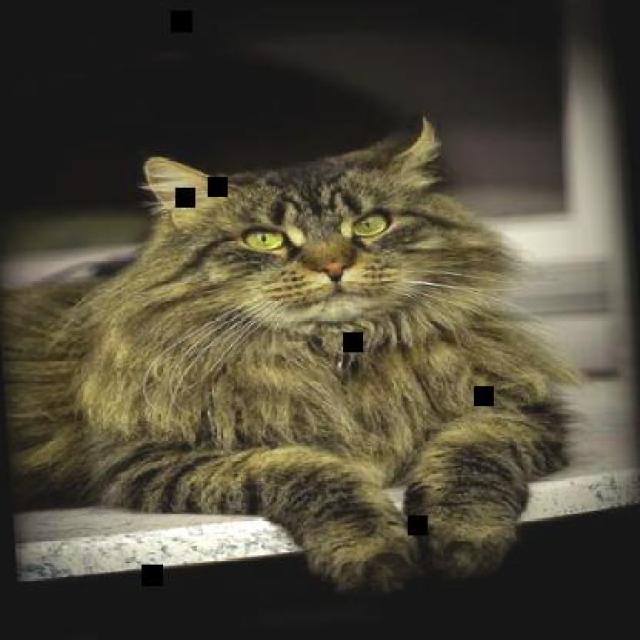cat: (0, 104, 582, 618)
